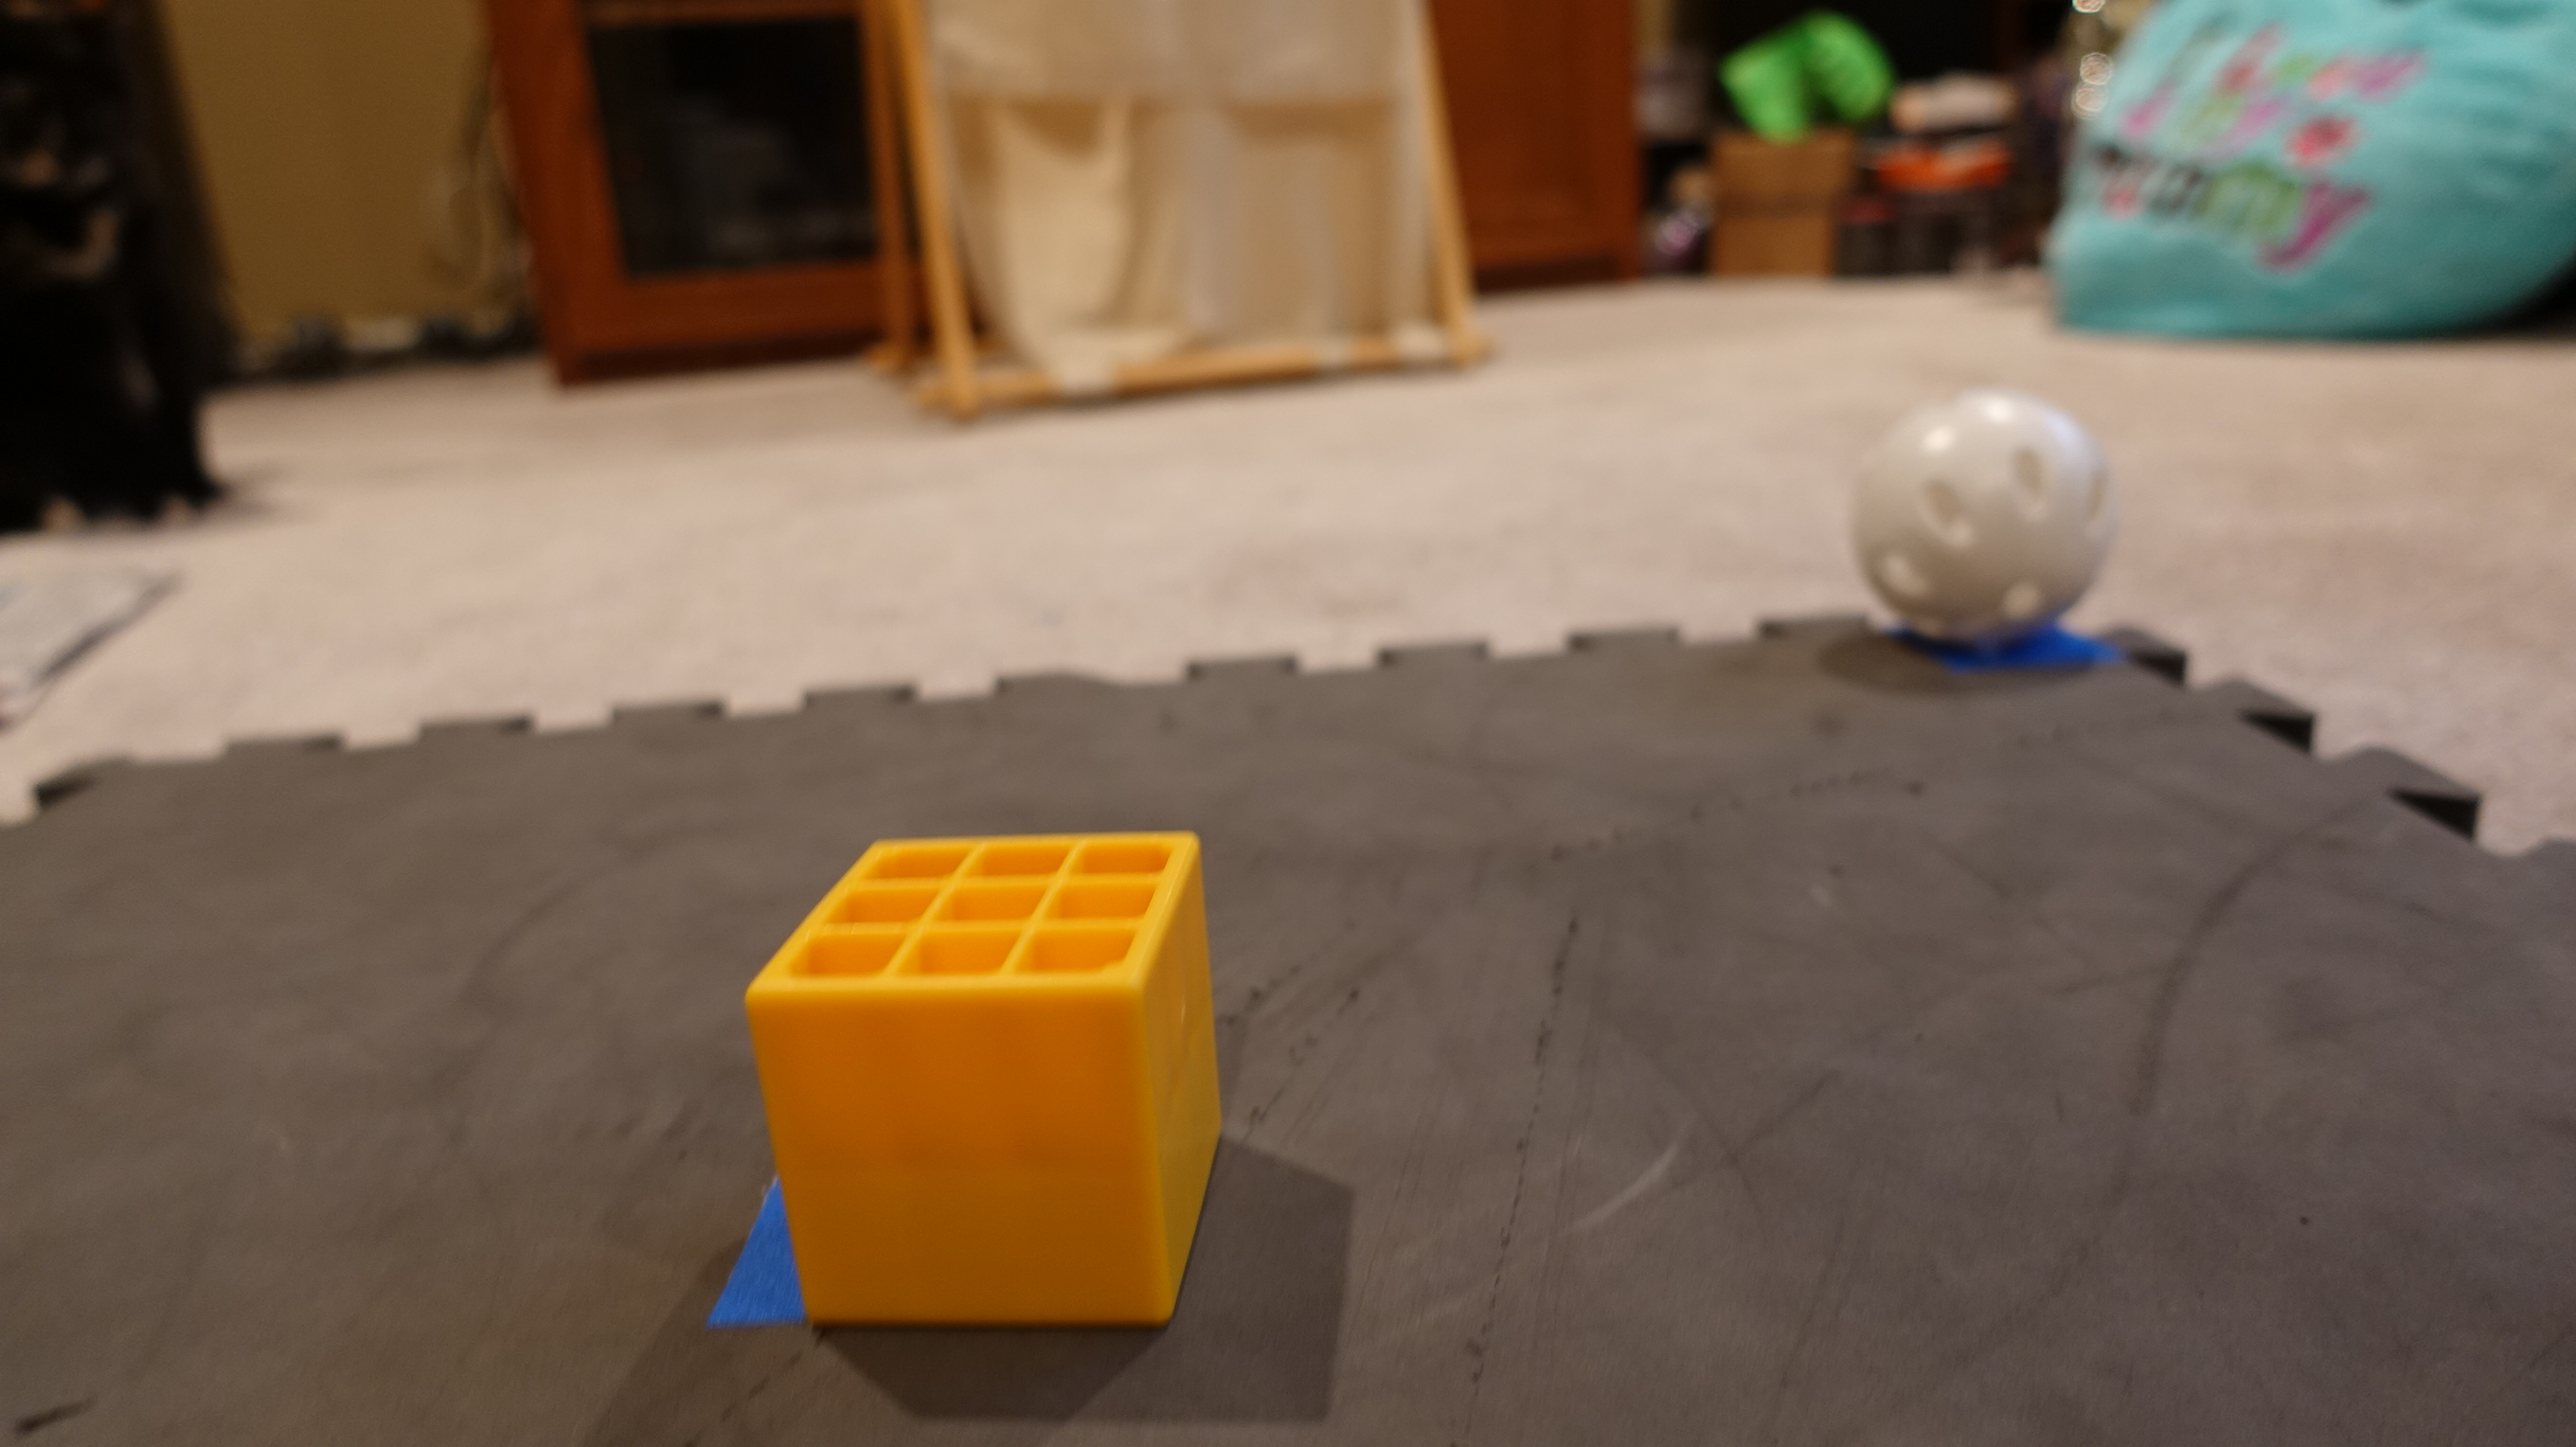gold: (736, 823, 1226, 1344)
silver: (1829, 382, 2127, 655)
